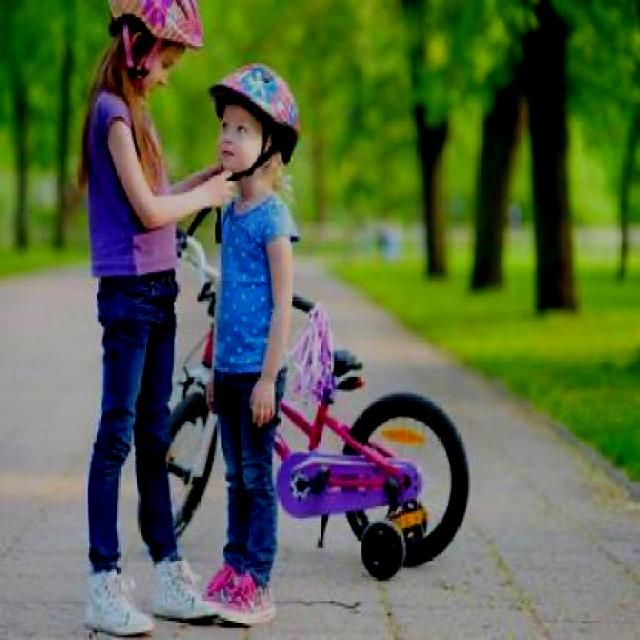With Helmet: (200, 50, 302, 187), (108, 0, 208, 86)
